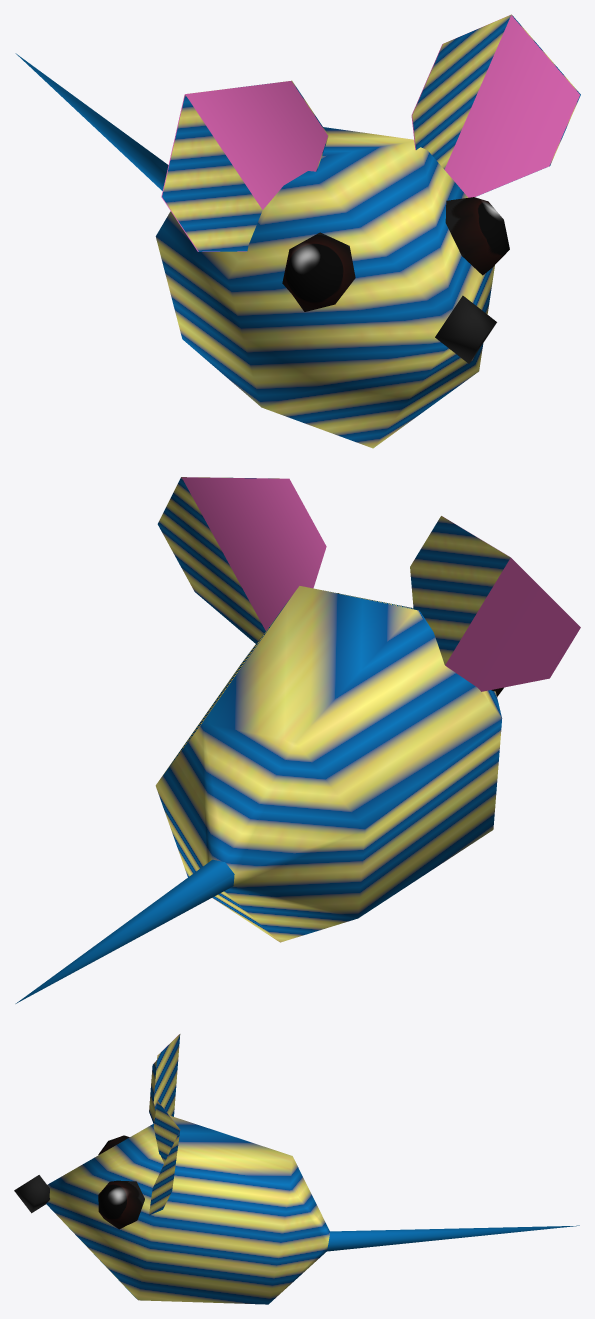
Rendered from Toy Mouse_A.FBX.
The picture shows the model from 3 angles, top to bottom: view 1: azimuth 30°, elevation 25°; view 2: azimuth 150°, elevation 25°; view 3: azimuth 270°, elevation 25°; orthographic projection. The views are drawn at different scales.
Visible parts, largest first — view 1: Toy Mouse; view 2: Toy Mouse; view 3: Toy Mouse.
Part boxes in pixels (x1,y1,x2,y2): Toy Mouse: (15, 14, 580, 448); Toy Mouse: (15, 477, 580, 1003); Toy Mouse: (14, 1034, 579, 1304).
Bounding box in the file's own units: 44.71 × 38.1 × 86.61.
